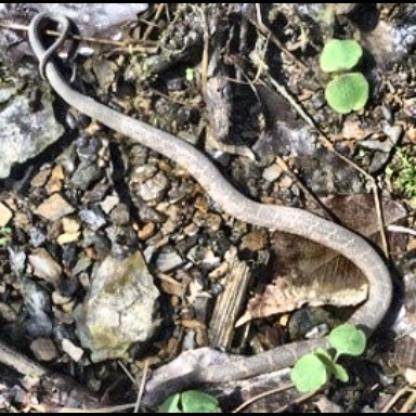Snake: (26, 9, 399, 407)
